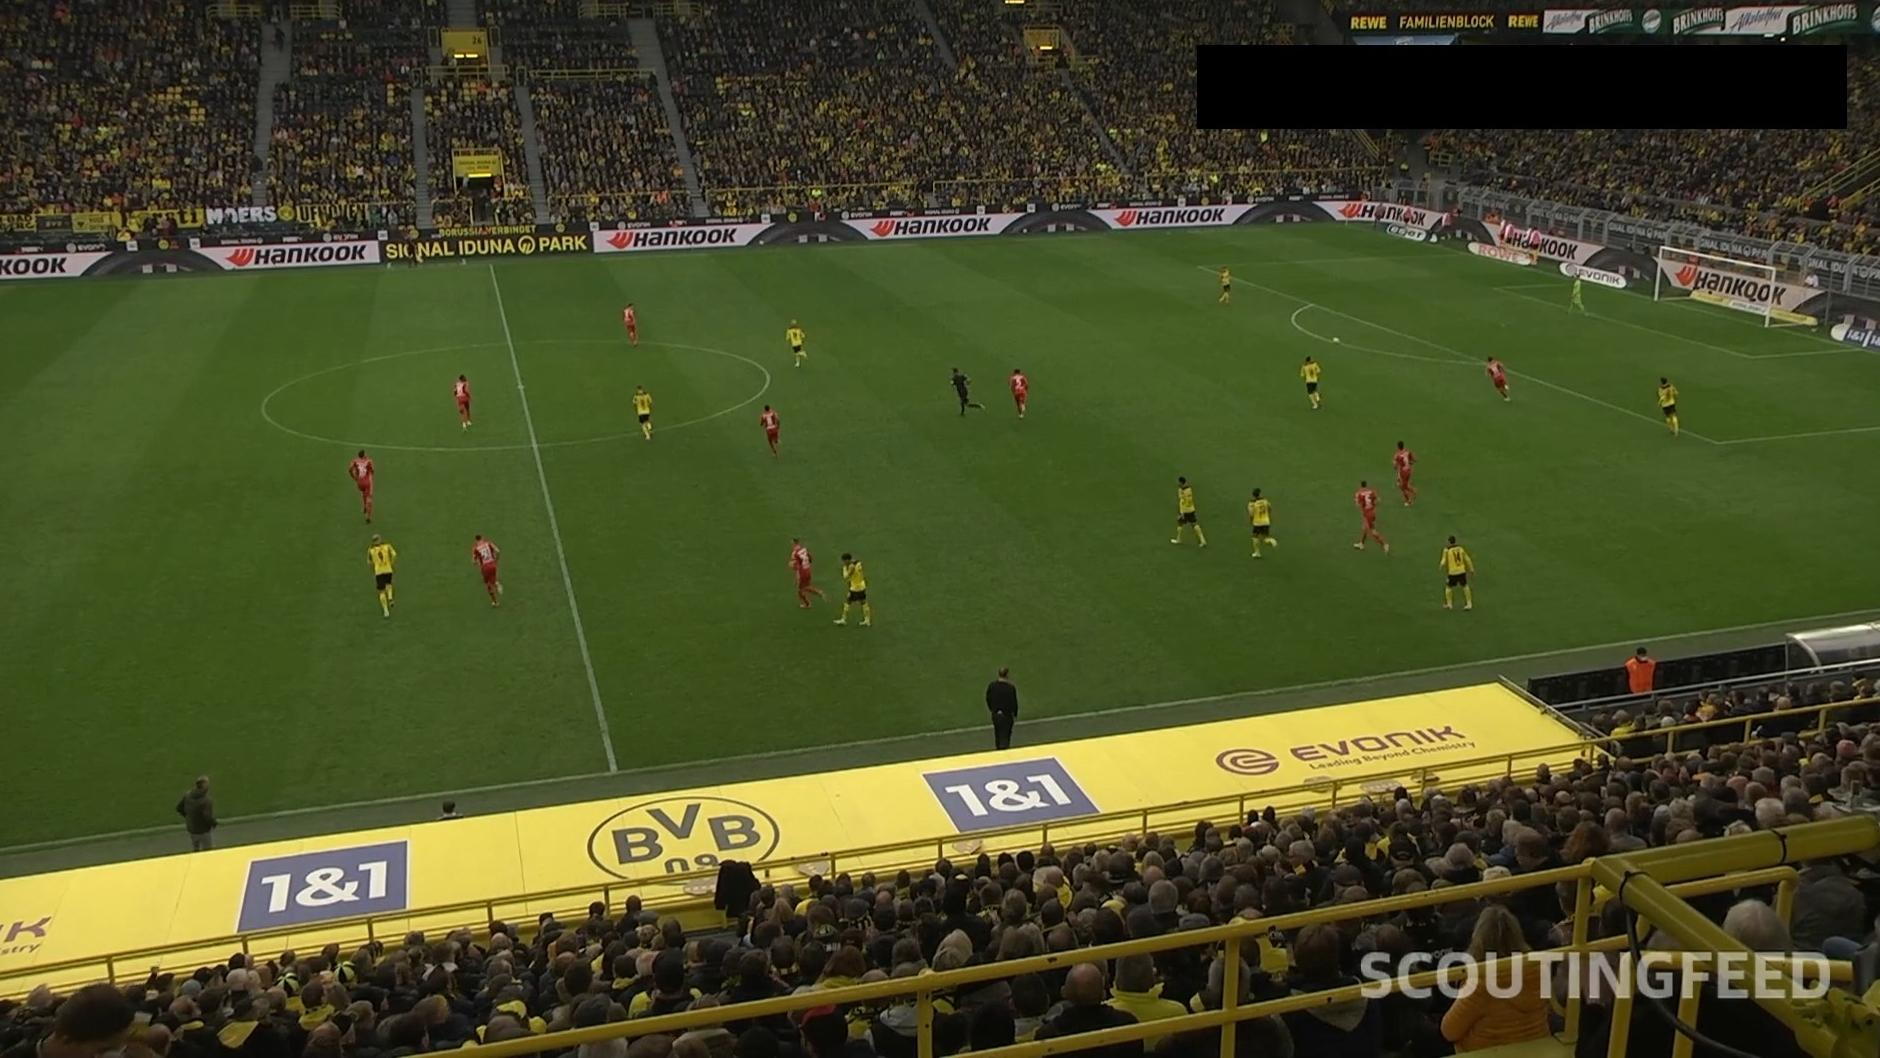ball: (1333, 337, 1340, 345)
